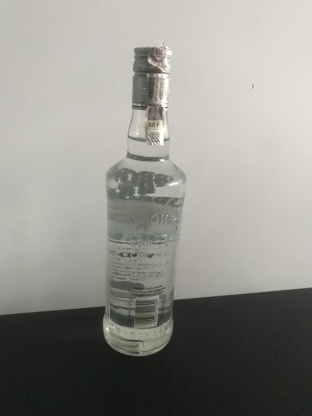nakretka: (130, 43, 173, 110)
